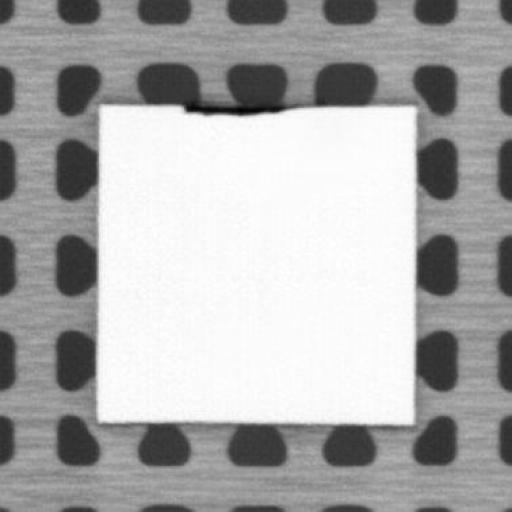DIE_BROKEN: (180, 98, 287, 114)
